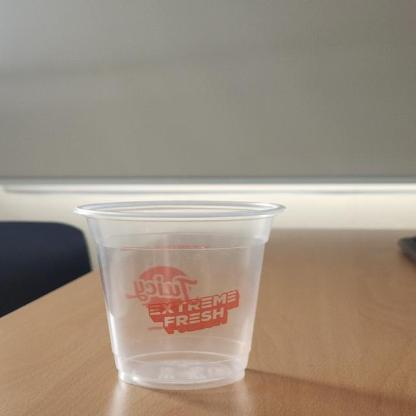Plastic Cup: (71, 198, 285, 392)
